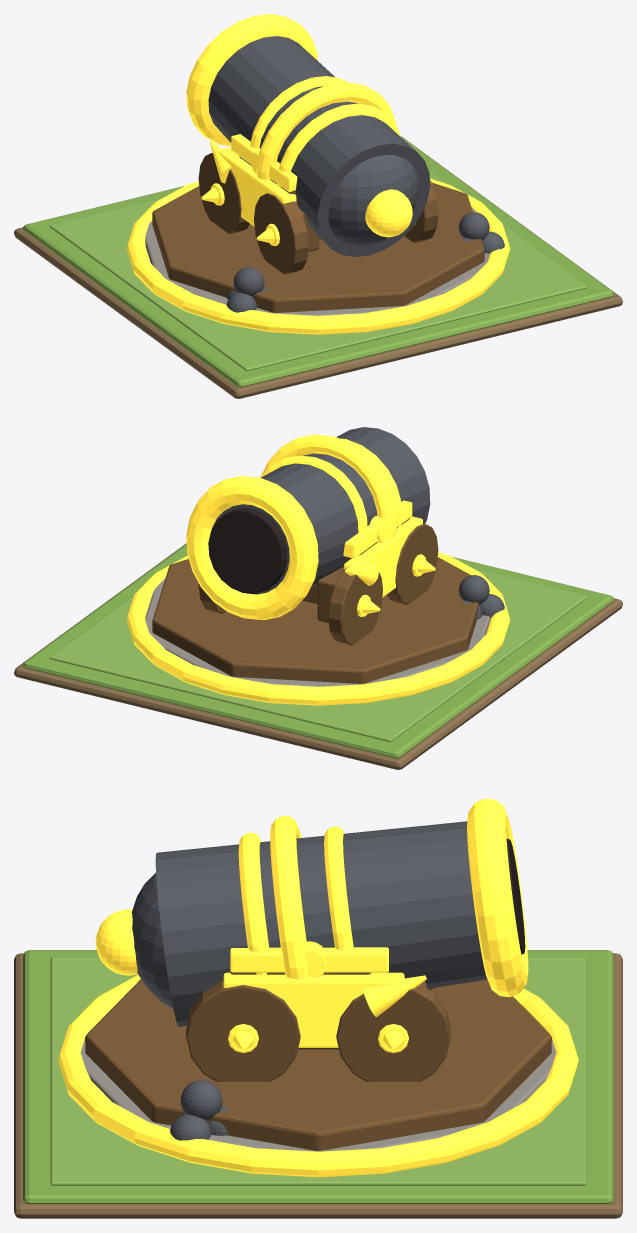
Rendered from cannon_lv6.glb.
3 renders of one model, top to bottom at view 1: azimuth 30°, elevation 25°; view 2: azimuth 150°, elevation 25°; view 3: azimuth 270°, elevation 25°, orthographic. The views are drawn at different scales.
Visible parts, largest first — view 1: TurntableWood, CannonBarrel, Base_Inner, Base_Grass, CN_BaseArmorRing, Base_Dirt, CannonBreech, MuzzleLip, CN_HeavyBreechRing, CannonWheel_-1_-1, TurntableStone, CannonWheel_-1_1 (+8 smaller); view 2: TurntableWood, Base_Inner, Base_Grass, CN_BaseArmorRing, CannonBarrel, MuzzleLip, Base_Dirt, BarrelBore, CN_HeavyBreechRing, CannonWheel_-1_1, TurntableStone, CannonWheel_-1_-1 (+7 smaller); view 3: TurntableWood, CannonBarrel, Base_Inner, Base_Grass, CN_BaseArmorRing, Base_Dirt, CannonWheel_1_-1, MuzzleLip, CannonWheel_1_1, CN_HeavyCheekShield_1, CN_HeavyBreechRing, TurntableStone (+10 smaller).
Boxes of the visible parts, x1=… form: TurntableWood: x1=152, y1=182, x2=484, y2=312; CannonBarrel: x1=208, y1=36, x2=430, y2=256; Base_Inner: x1=49, y1=170, x2=587, y2=370; Base_Grass: x1=23, y1=136, x2=613, y2=387; CN_BaseArmorRing: x1=126, y1=178, x2=510, y2=334; Base_Dirt: x1=14, y1=136, x2=622, y2=398; CannonBreech: x1=328, y1=155, x2=419, y2=246; MuzzleLip: x1=186, y1=14, x2=318, y2=146; CN_HeavyBreechRing: x1=256, y1=82, x2=395, y2=179; CannonWheel_-1_-1: x1=254, y1=193, x2=308, y2=274; TurntableStone: x1=145, y1=207, x2=489, y2=315; CannonWheel_-1_1: x1=198, y1=152, x2=249, y2=233; TurntableWood: x1=152, y1=557, x2=479, y2=683; Base_Inner: x1=49, y1=568, x2=587, y2=741; Base_Grass: x1=23, y1=543, x2=613, y2=758; CN_BaseArmorRing: x1=126, y1=552, x2=510, y2=705; CannonBarrel: x1=211, y1=427, x2=430, y2=594; MuzzleLip: x1=186, y1=476, x2=318, y2=619; Base_Dirt: x1=14, y1=543, x2=622, y2=769; BarrelBore: x1=208, y1=508, x2=287, y2=593; CN_HeavyBreechRing: x1=261, y1=434, x2=396, y2=539; CannonWheel_-1_1: x1=328, y1=568, x2=382, y2=645; TurntableStone: x1=145, y1=578, x2=490, y2=686; CannonWheel_-1_-1: x1=387, y1=523, x2=438, y2=604; TurntableWood: x1=85, y1=979, x2=551, y2=1150; CannonBarrel: x1=155, y1=821, x2=487, y2=1026; Base_Inner: x1=50, y1=957, x2=586, y2=1185; Base_Grass: x1=23, y1=950, x2=613, y2=1203; CN_BaseArmorRing: x1=58, y1=975, x2=578, y2=1177; Base_Dirt: x1=14, y1=953, x2=622, y2=1218; CannonWheel_1_-1: x1=186, y1=981, x2=300, y2=1081; MuzzleLip: x1=467, y1=798, x2=528, y2=997; CannonWheel_1_1: x1=336, y1=984, x2=450, y2=1081; CN_HeavyCheekShield_1: x1=223, y1=972, x2=404, y2=1047; CN_HeavyBreechRing: x1=270, y1=815, x2=307, y2=979; TurntableStone: x1=80, y1=999, x2=556, y2=1151.
Size of the model in its own units: 2.76 by 1.42 by 2.76.
